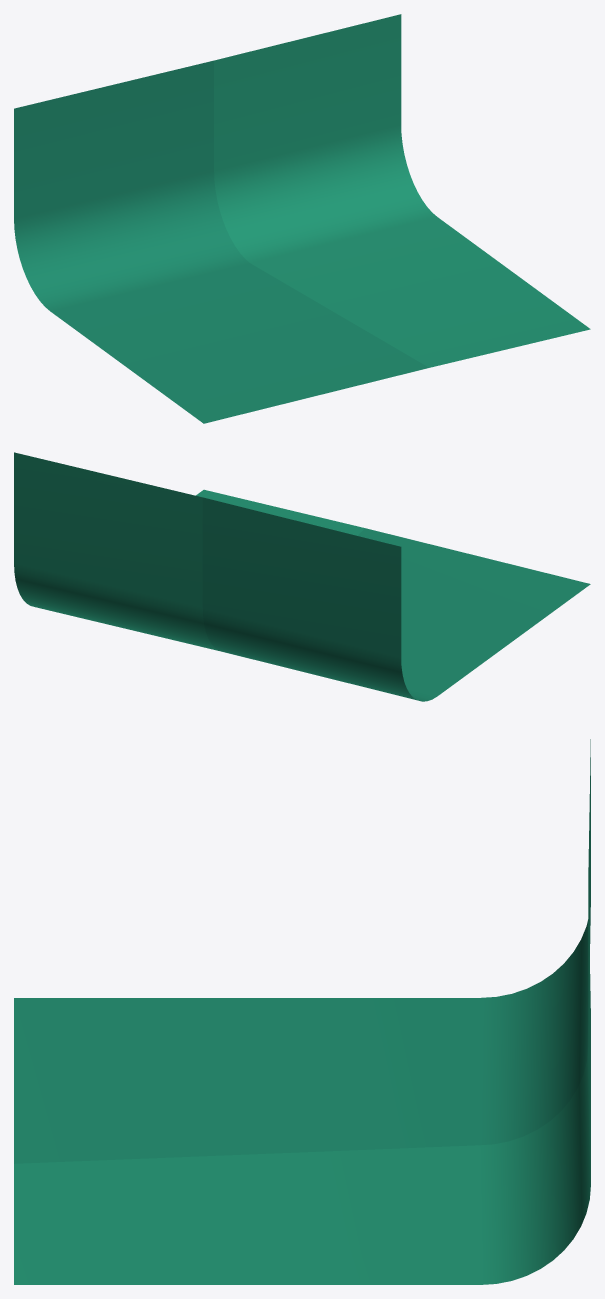
File: MainMenuPlane 1.fbx
3 renders of one model, top to bottom at view 1: azimuth 30°, elevation 25°; view 2: azimuth 150°, elevation 25°; view 3: azimuth 270°, elevation 25°, orthographic. The views are drawn at different scales.
Visible parts, largest first — view 1: Plane; view 2: Plane; view 3: Plane.
Boxes of the visible parts, x1=… form: Plane: x1=14, y1=14, x2=590, y2=423; Plane: x1=14, y1=452, x2=590, y2=701; Plane: x1=14, y1=739, x2=590, y2=1284.
Bounding box in the file's own units: 2085 × 908 × 1771.
